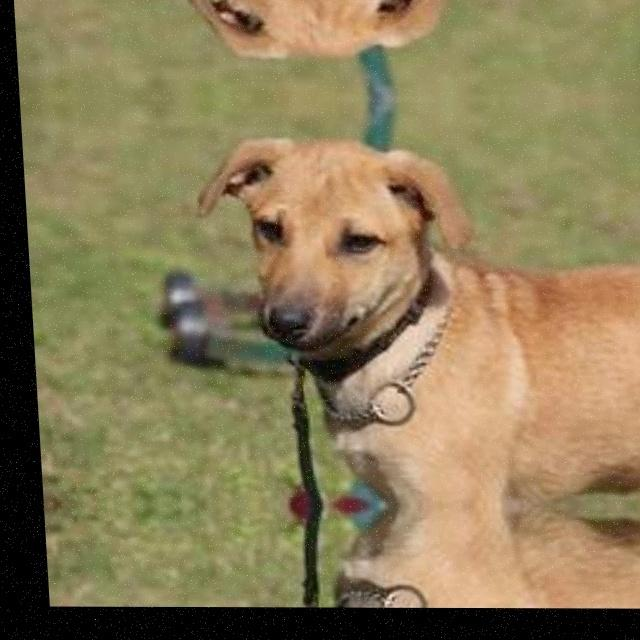dog: (171, 128, 549, 418), (164, 0, 529, 68), (199, 594, 561, 608)
